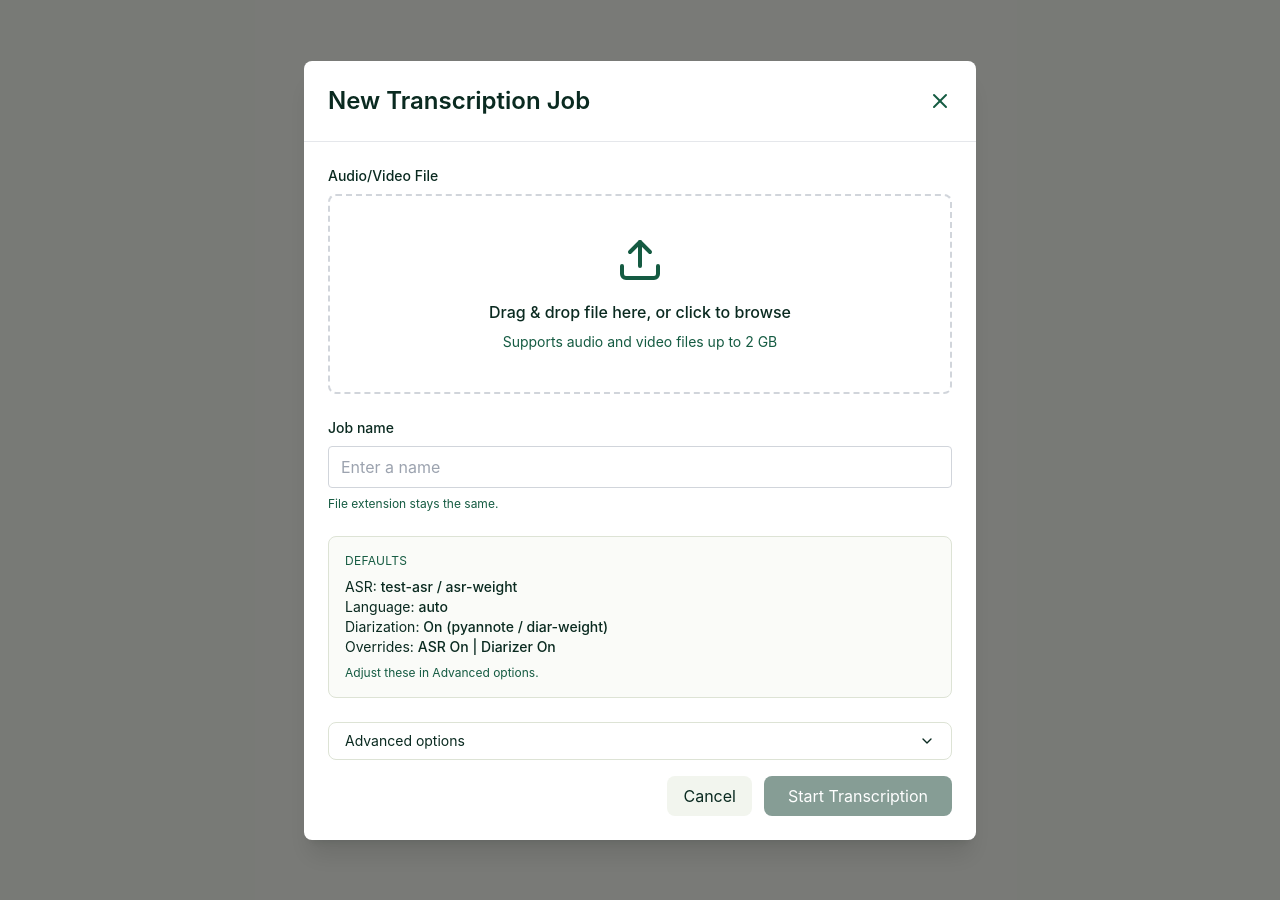
Test: NewJobModal › shows default model and language selections
Click the button with test id "advanced-toggle" at (405, 740), box x1=328 y1=722 x2=952 y2=760
(page scrolled)
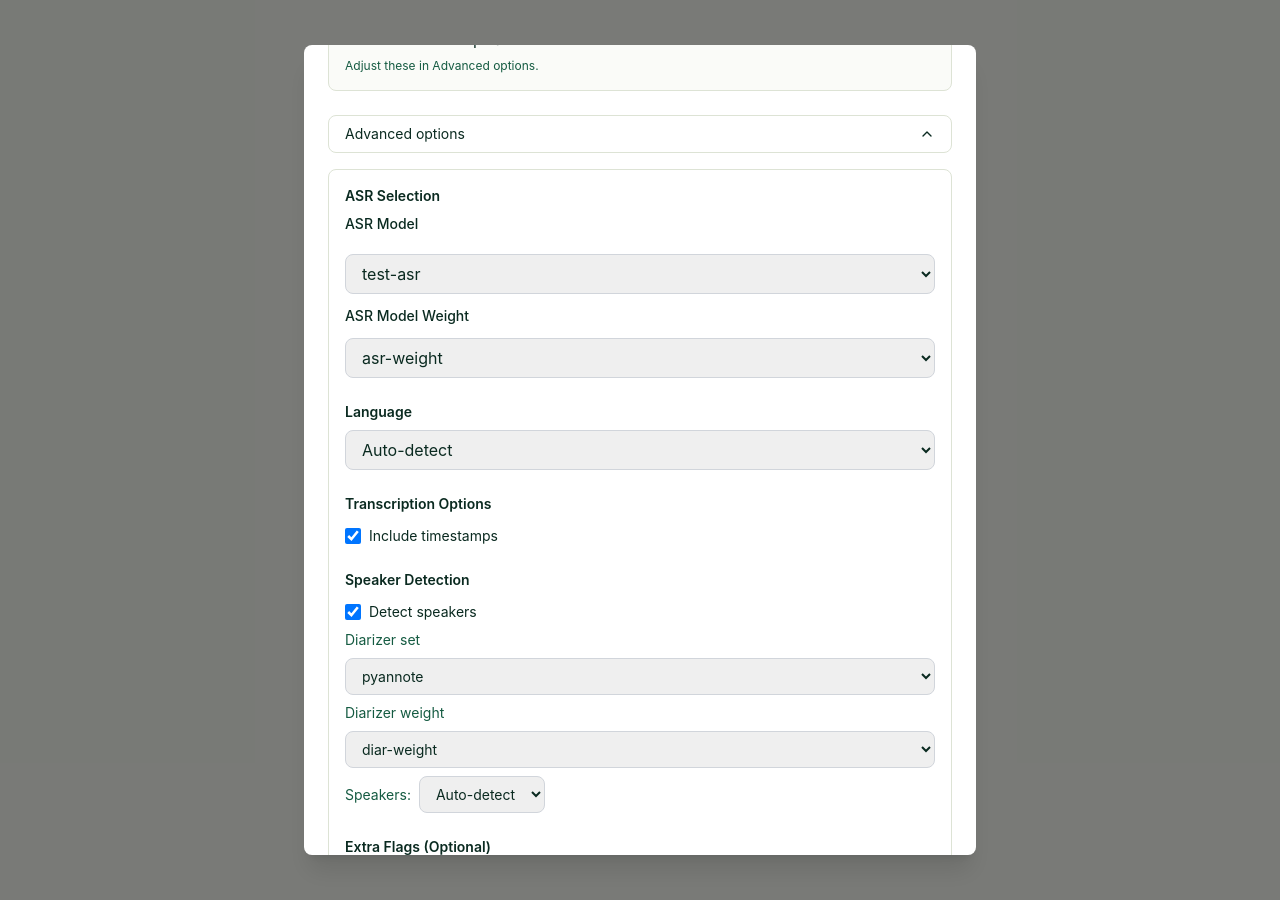
Check: the element with test id "advanced-panel" is shown, box x1=328 y1=169 x2=952 y2=855
Check: the dropdown labelled "ASR Model Weight" shows "asr-weight", box x1=345 y1=338 x2=935 y2=378
Check: the dropdown with test id "language-select" shows "Auto-detect", box x1=345 y1=430 x2=935 y2=470
